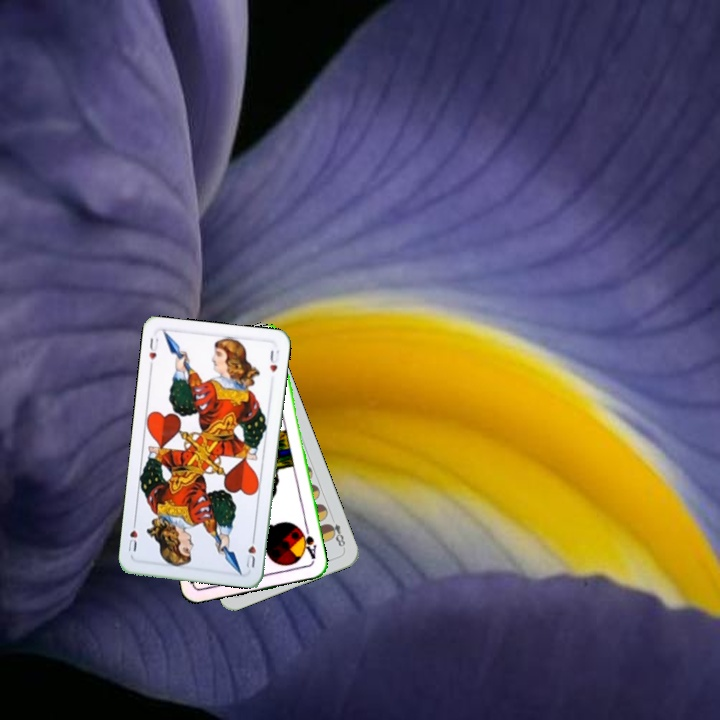E8: (323, 519, 348, 552)
HU: (242, 531, 258, 571), (145, 334, 161, 362)
SA: (297, 524, 319, 565)
